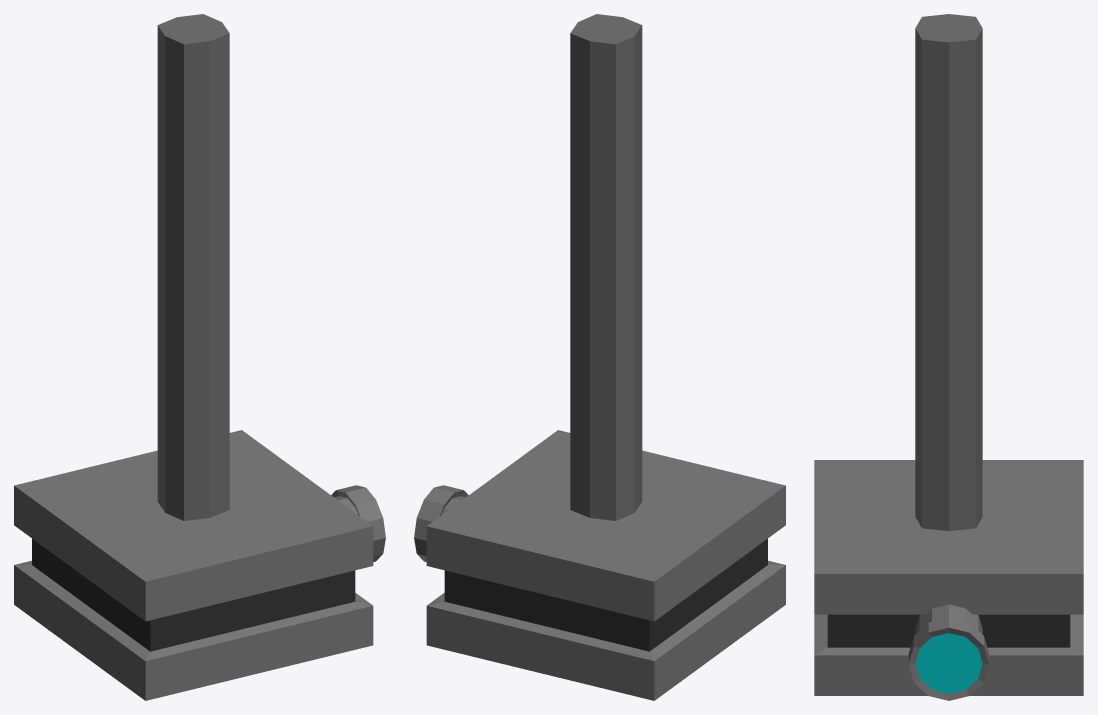
File: Projector.fbx
The picture shows the model from 3 angles, left to right: view 1: azimuth 30°, elevation 25°; view 2: azimuth 150°, elevation 25°; view 3: azimuth 270°, elevation 25°; orthographic projection. The views are drawn at different scales.
Visible parts, largest first — view 1: Projector, Pole; view 2: Projector, Pole; view 3: Projector, Pole.
Boxes of the visible parts, box(x1,y1,x2,y2) form: Projector: box(14, 430, 385, 700); Pole: box(157, 14, 229, 520); Projector: box(414, 430, 785, 700); Pole: box(570, 14, 642, 520); Projector: box(814, 460, 1083, 700); Pole: box(915, 14, 982, 530).
Size of the model in its own units: 503 by 1000 by 400.
